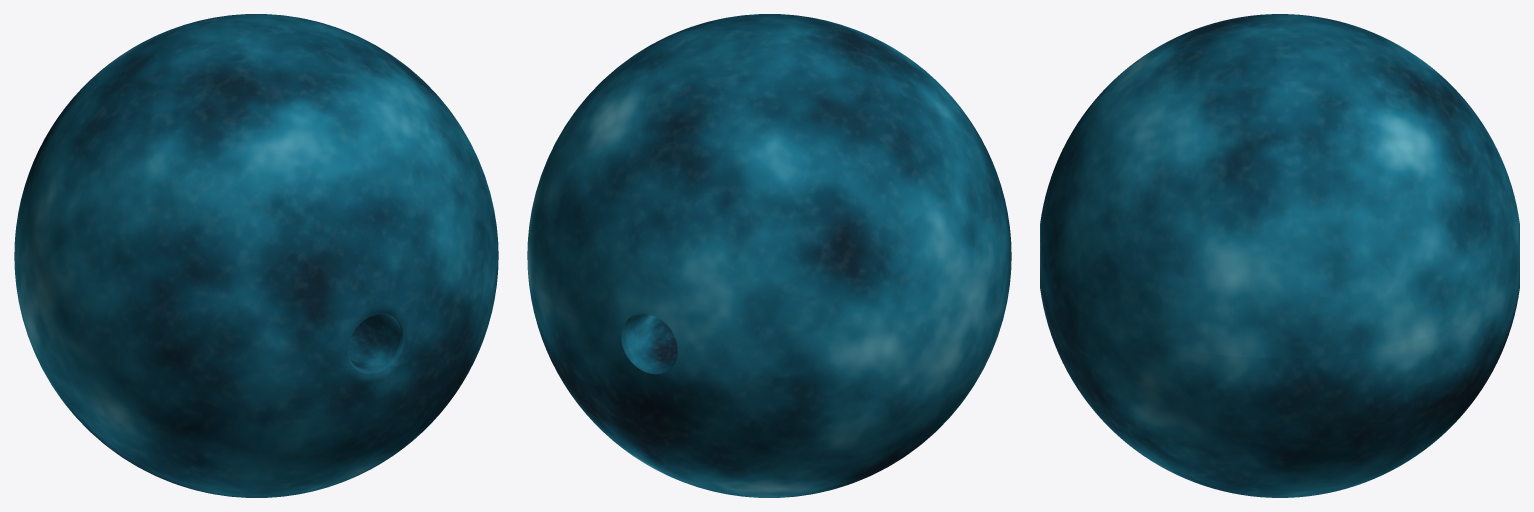
Rendered from blue-apatite.glb.
3 views of the same model, side by side, from view 1: azimuth 30°, elevation 25°; view 2: azimuth 150°, elevation 25°; view 3: azimuth 270°, elevation 25° (orthographic).
Visible parts, largest first — view 1: blue-apatite.001; view 2: blue-apatite.001; view 3: blue-apatite.001.
Boxes of the visible parts, x1,y1,x2,y2 form: blue-apatite.001: (14,14,498,497); blue-apatite.001: (527,14,1011,497); blue-apatite.001: (1040,14,1519,497).
Size of the model in its own units: 0.008 by 0.008 by 0.00793.
2 materials, 1 textured.
